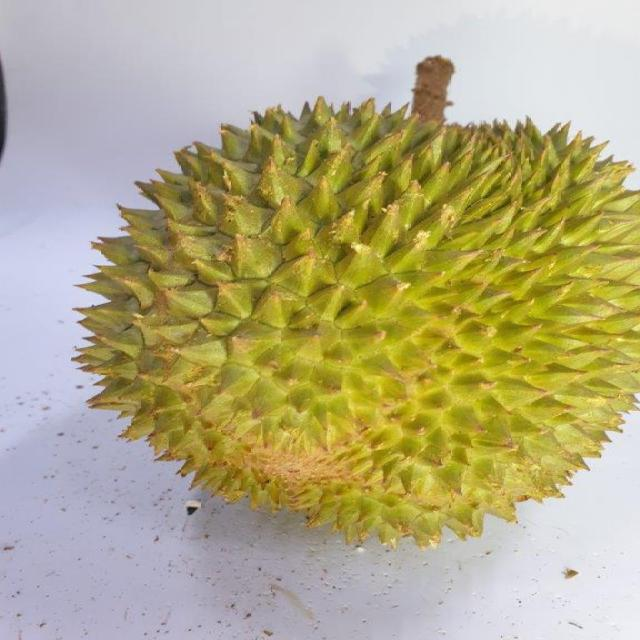immature: (70, 89, 640, 548)
